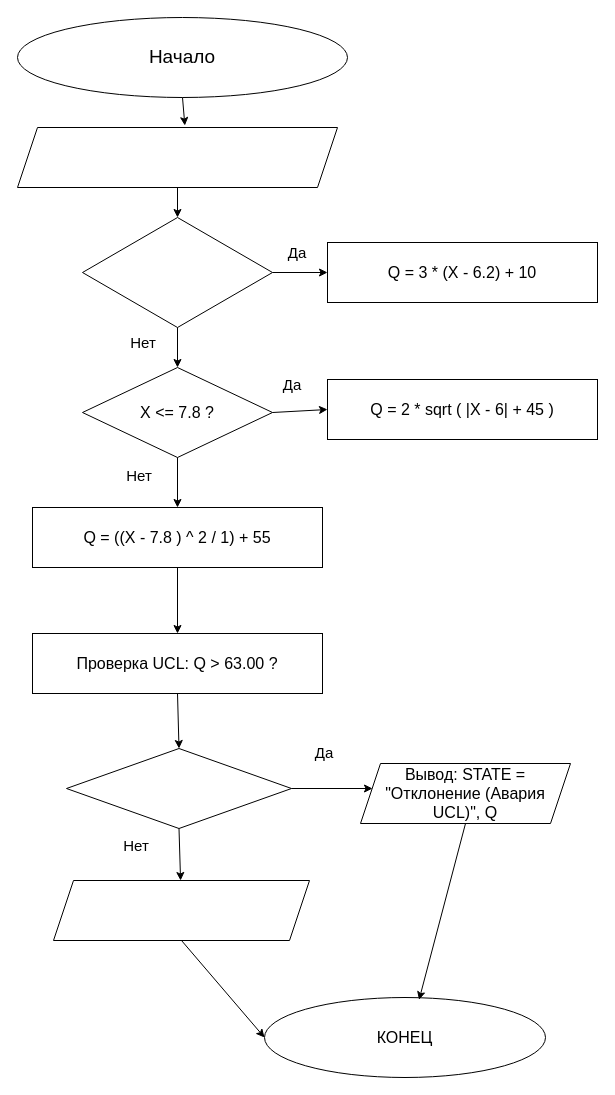
The diagram is 615 pixels wide and 1095 high, and some of its shapes have lost their labels. Here are the shapes that lost their labels. From the top down, the centre of each, then its label:
[177,157]: Ввод Х (pH)
[177,272]: X < 6.2 ?
[179,788]: Q > 63.00 ?
[181,910]: Вывод: STATE = "Норма"
